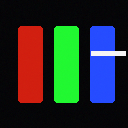3 line_h: (91, 51, 125, 55)
